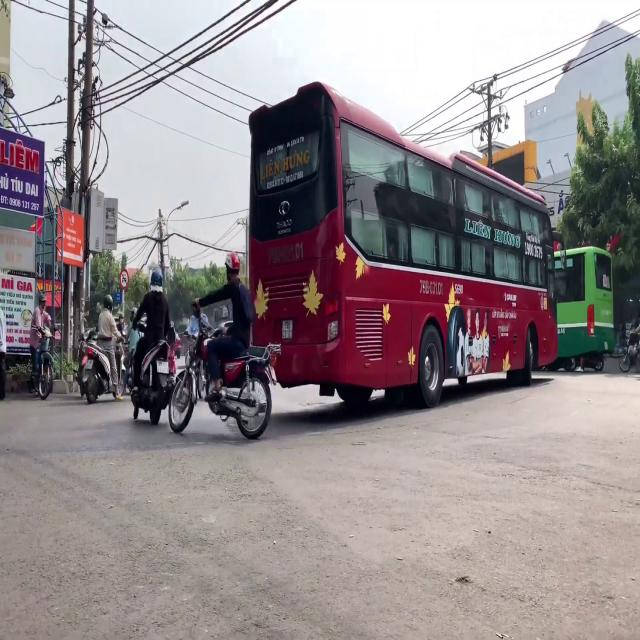bien_trang: (282, 320, 292, 339)
